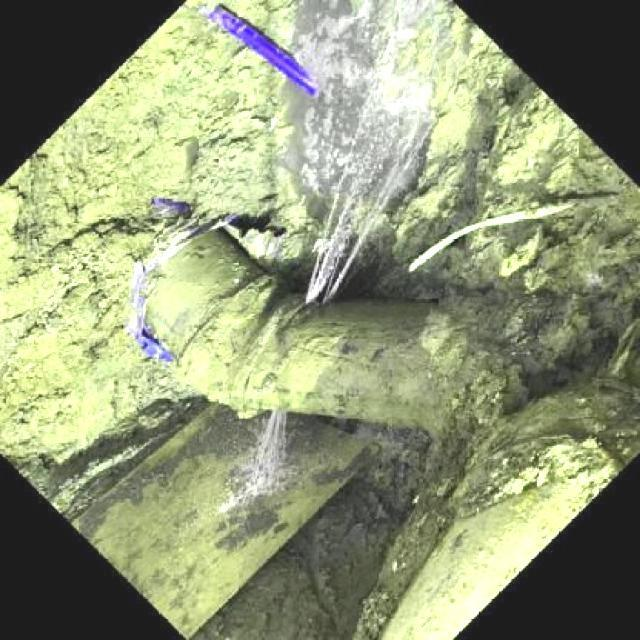pipe burst: (295, 80, 444, 316), (249, 395, 297, 488)
